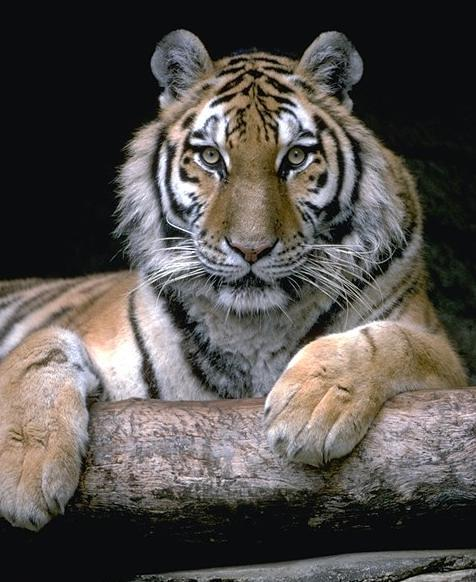tiger: (1, 28, 472, 534)
